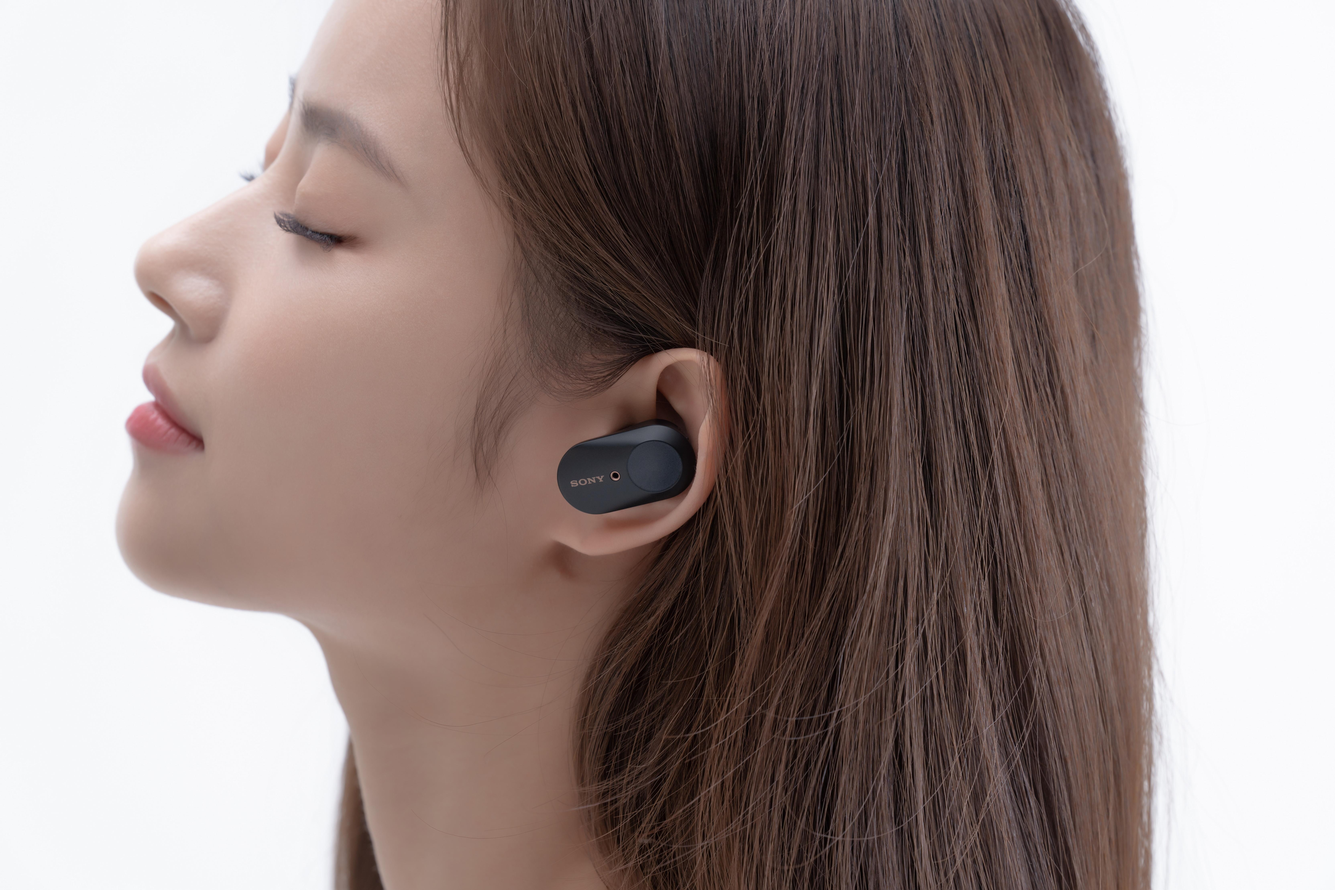earphone: (541, 412, 697, 536)
